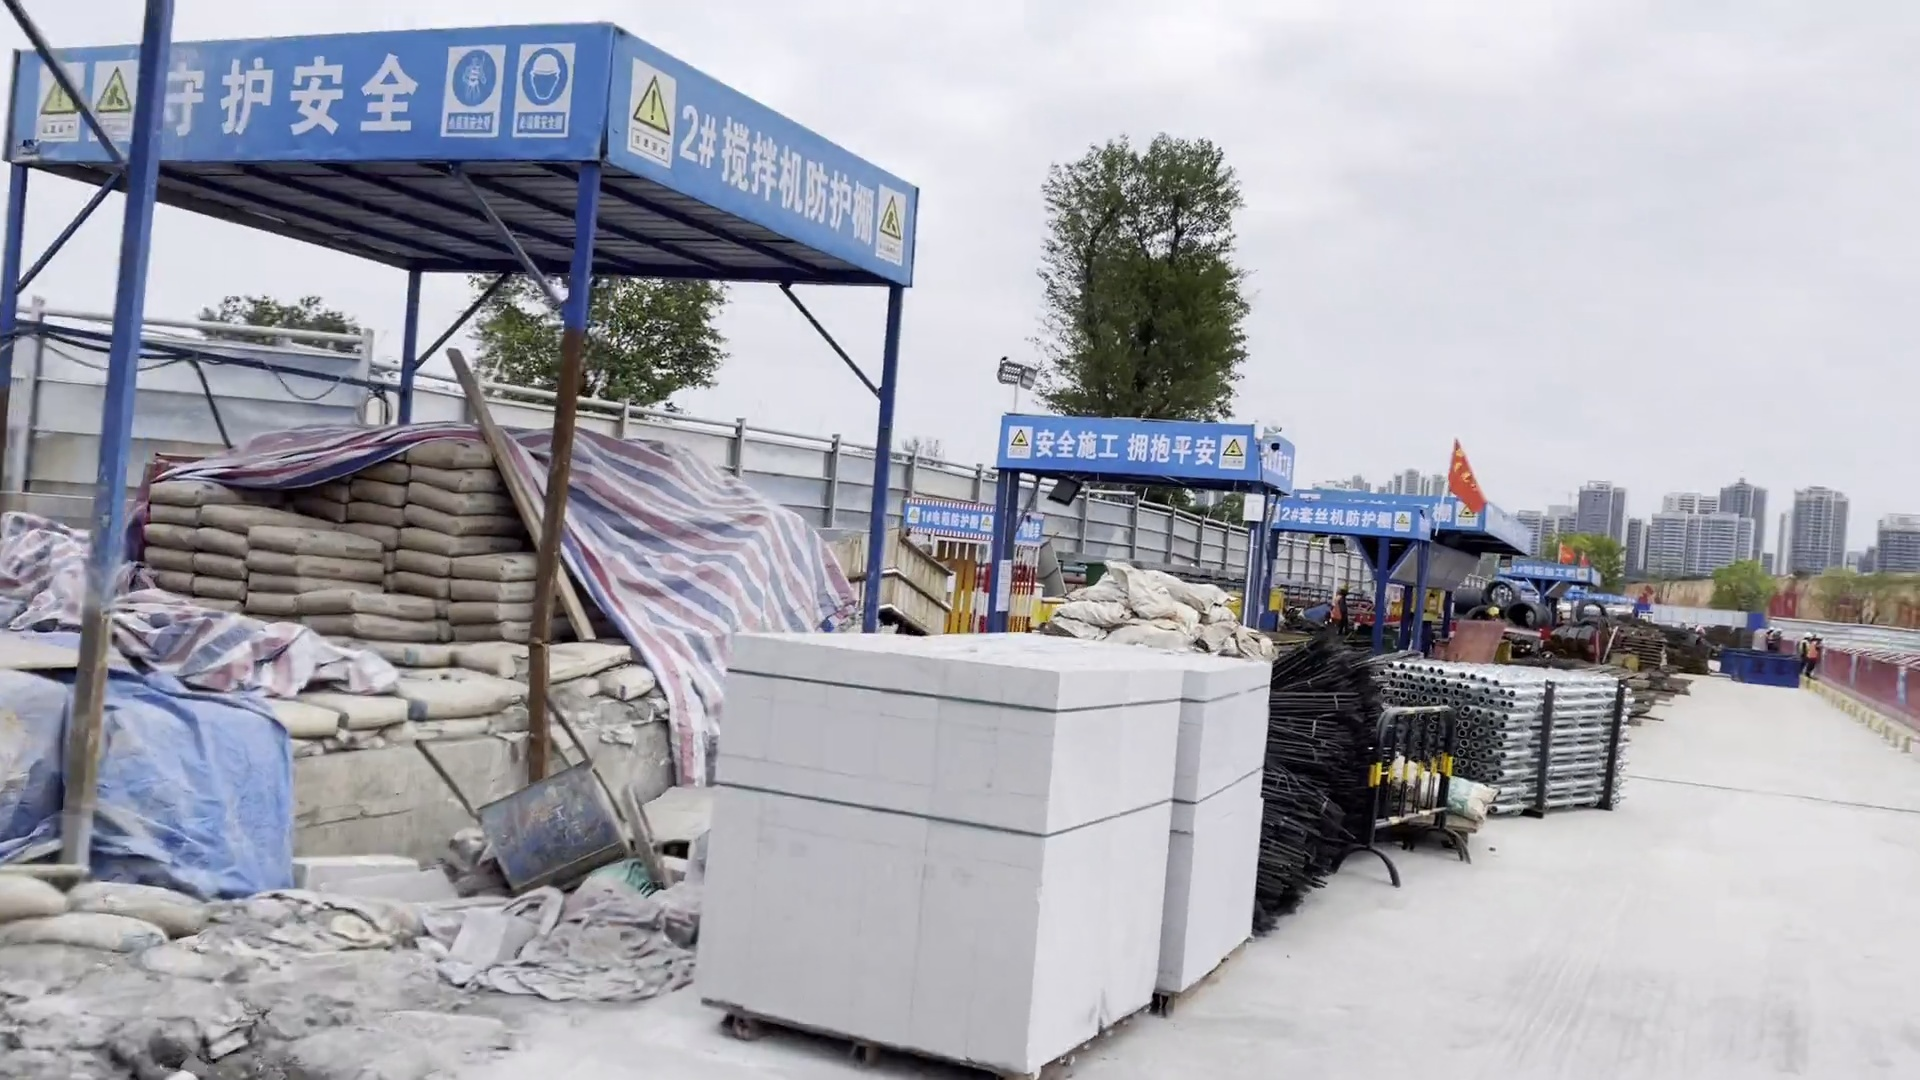brick: (671, 616, 1282, 1080)
hopper: (1721, 642, 1807, 694)
scaffold: (1391, 658, 1652, 812)
slogan: (146, 40, 418, 142), (1029, 422, 1221, 476)
